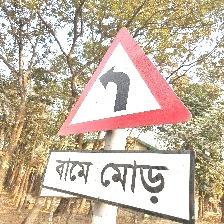Left-Turn: (44, 26, 196, 224)
